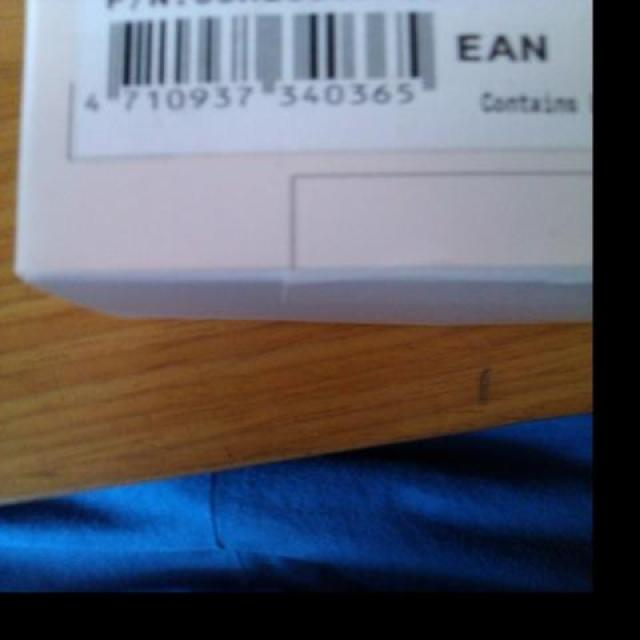Barcode: (78, 5, 455, 122)
